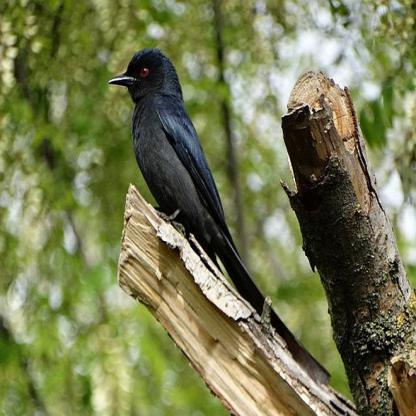Burung: (108, 50, 333, 388)
